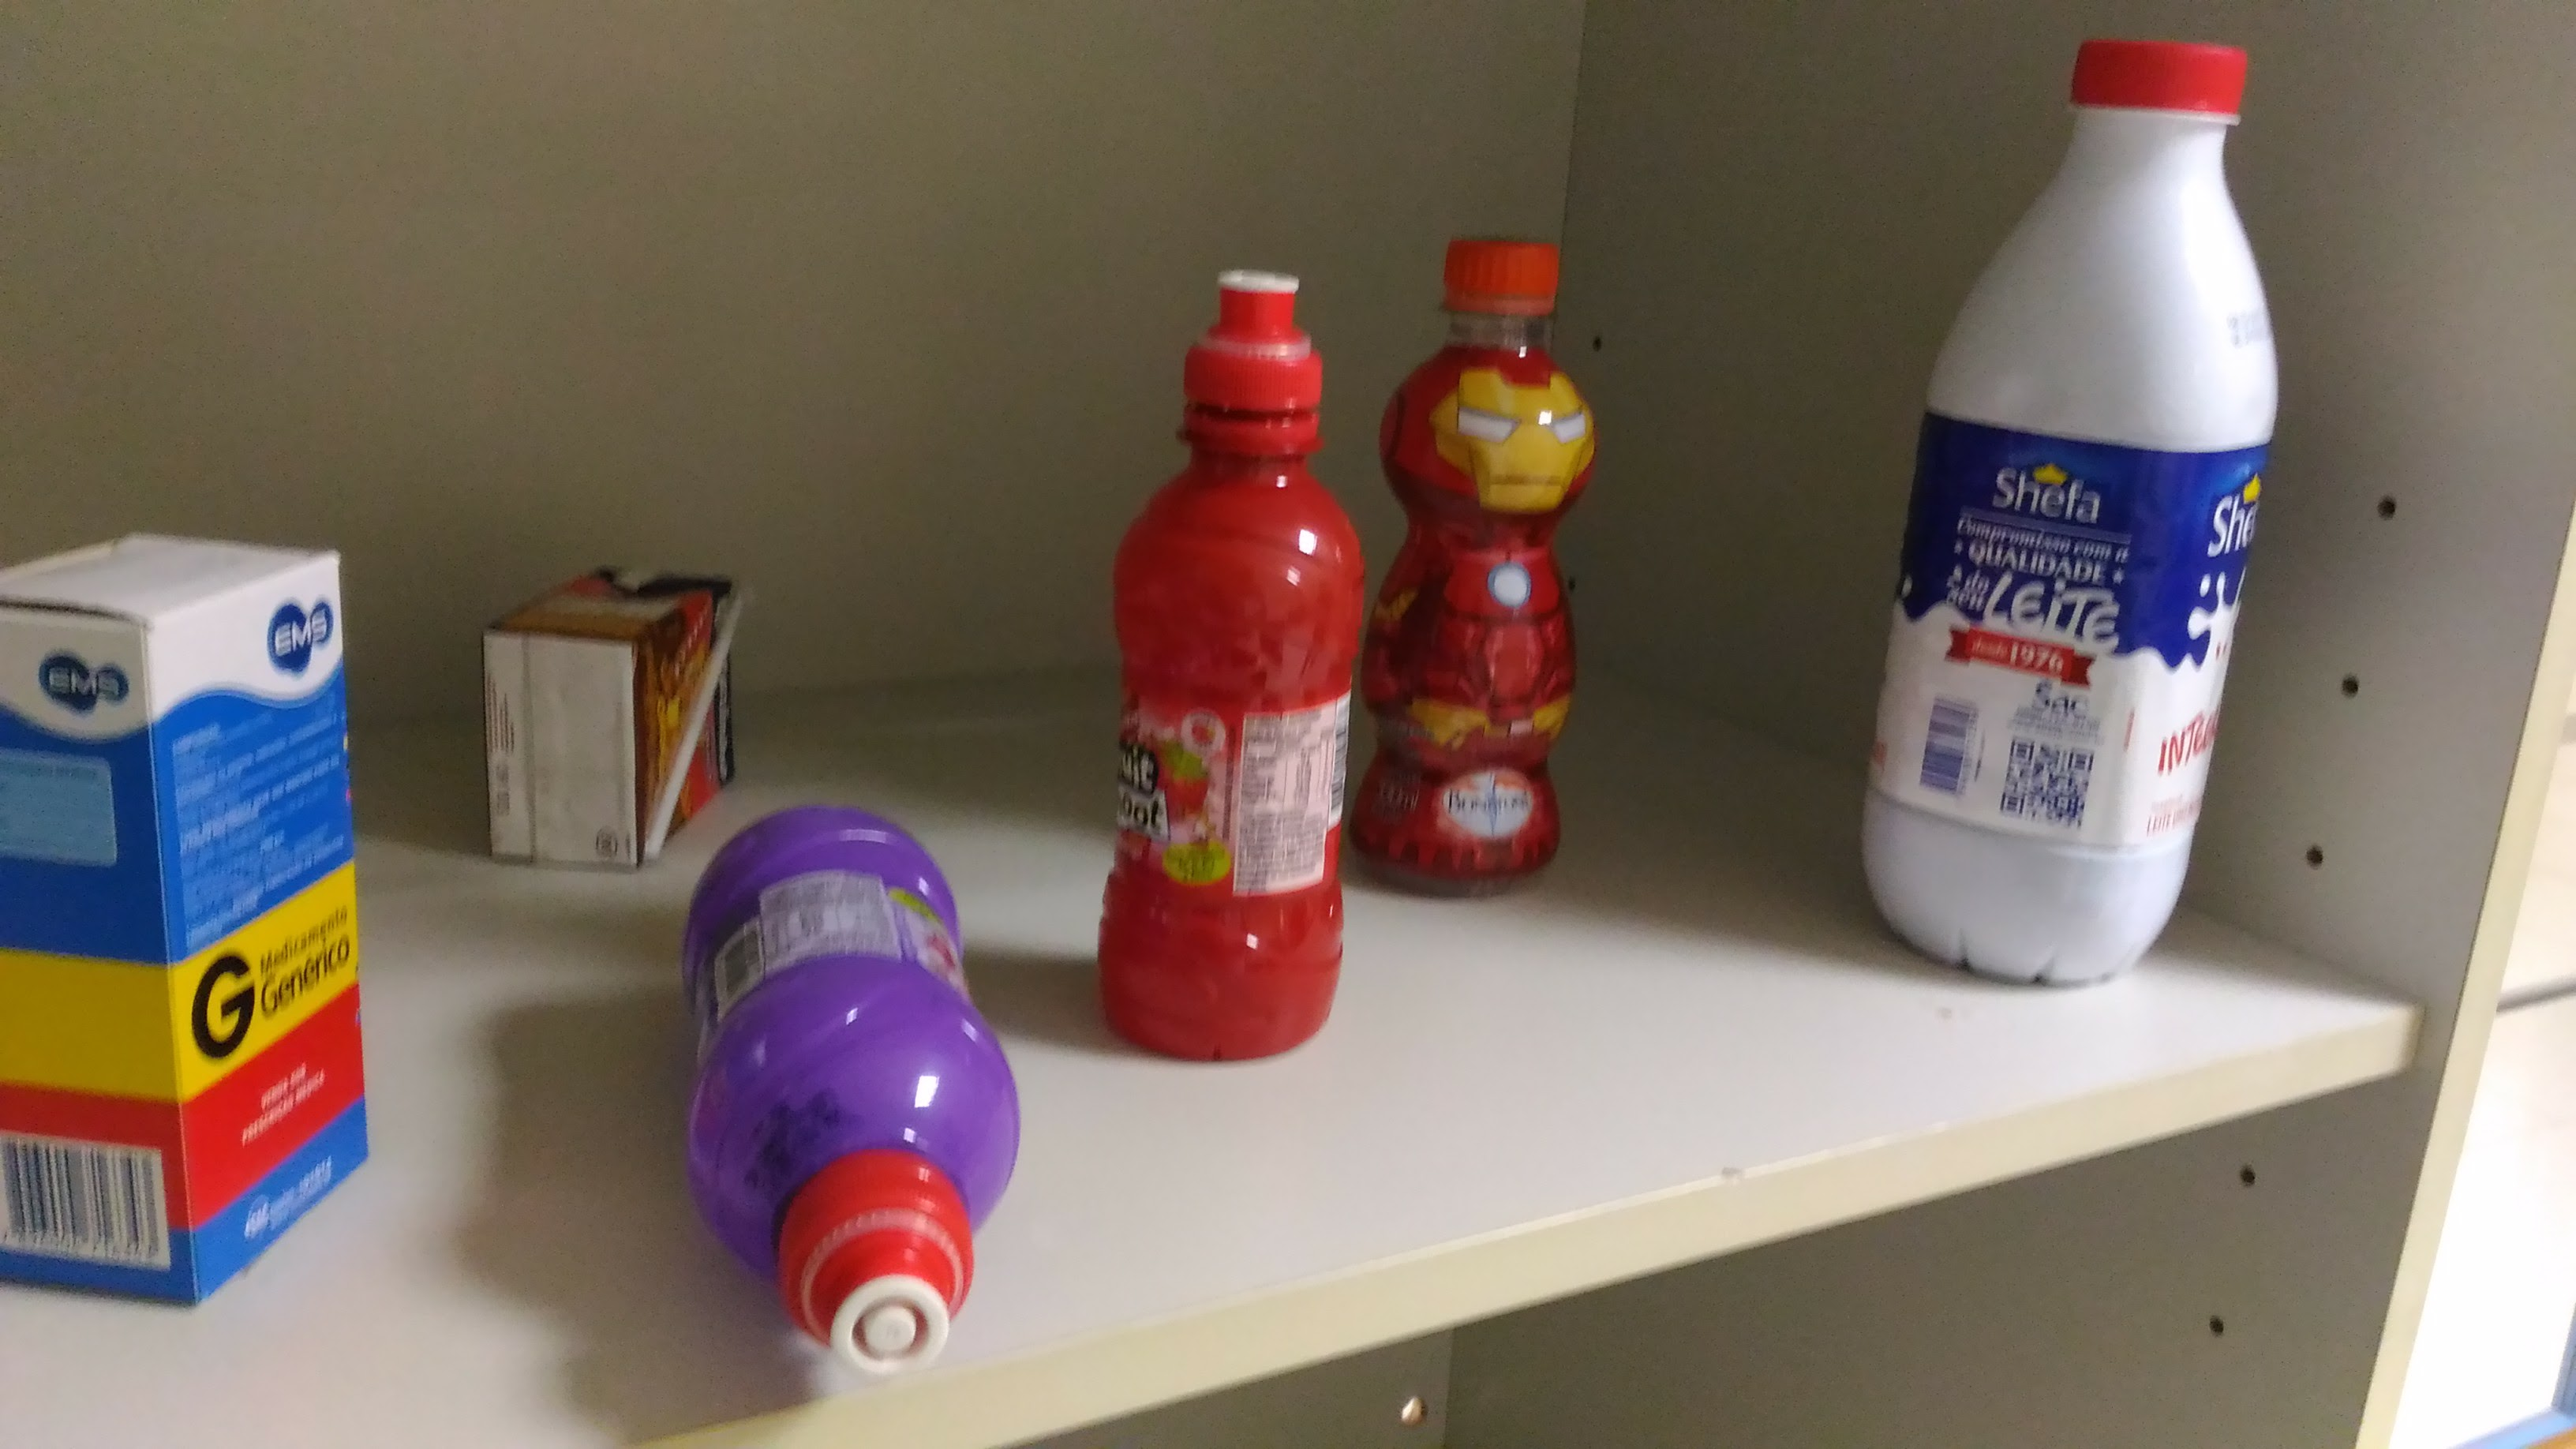chocolate_milk: (481, 563, 745, 882)
iron_man: (1357, 208, 1601, 902)
medicine: (1, 511, 382, 1323)
milk_bottle: (1850, 30, 2296, 1017)
purple_juice: (678, 792, 1037, 1387)
red_juice: (1092, 263, 1368, 1072)
